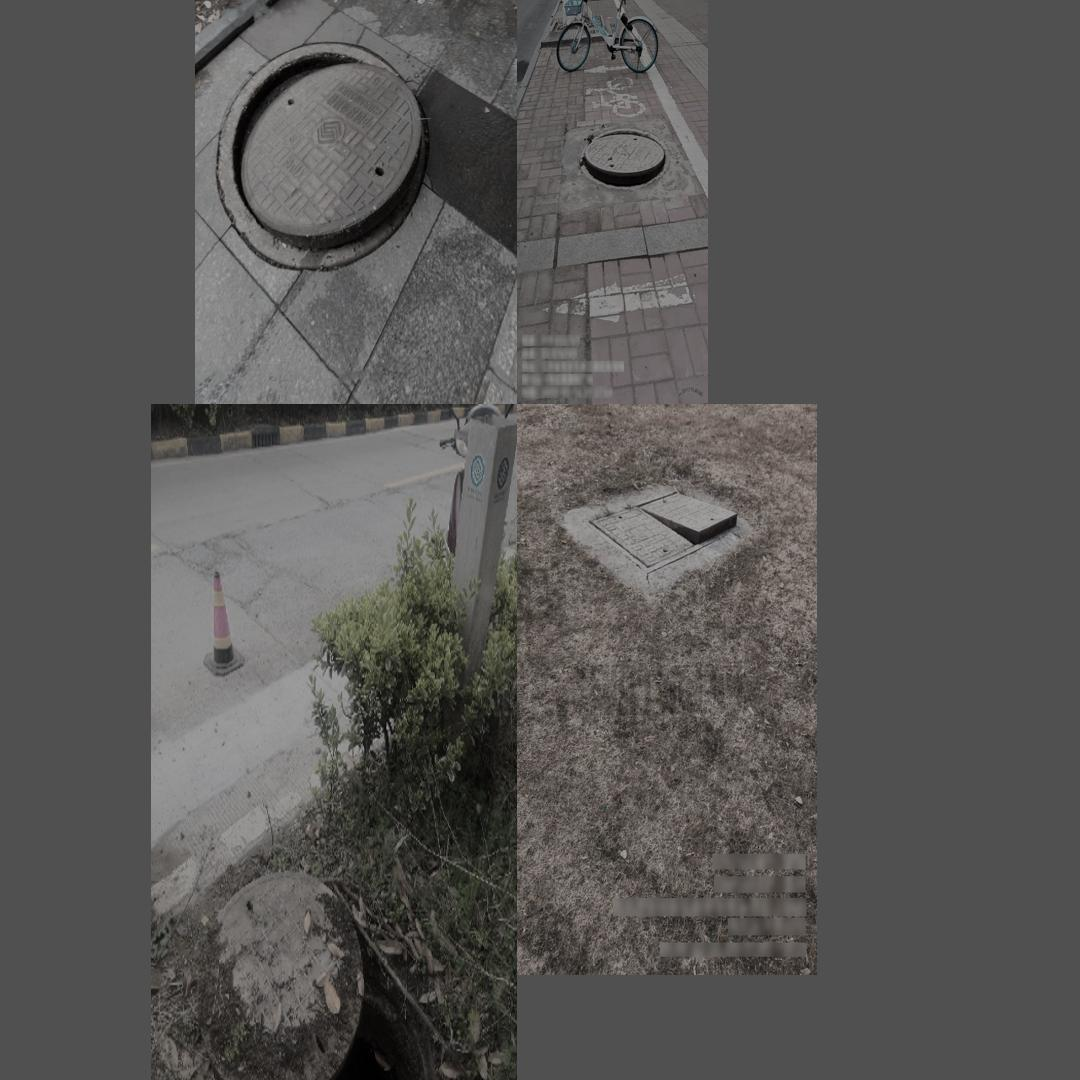uncovered: (199, 865, 449, 1080), (216, 41, 429, 268), (588, 488, 739, 574), (580, 128, 669, 192)
